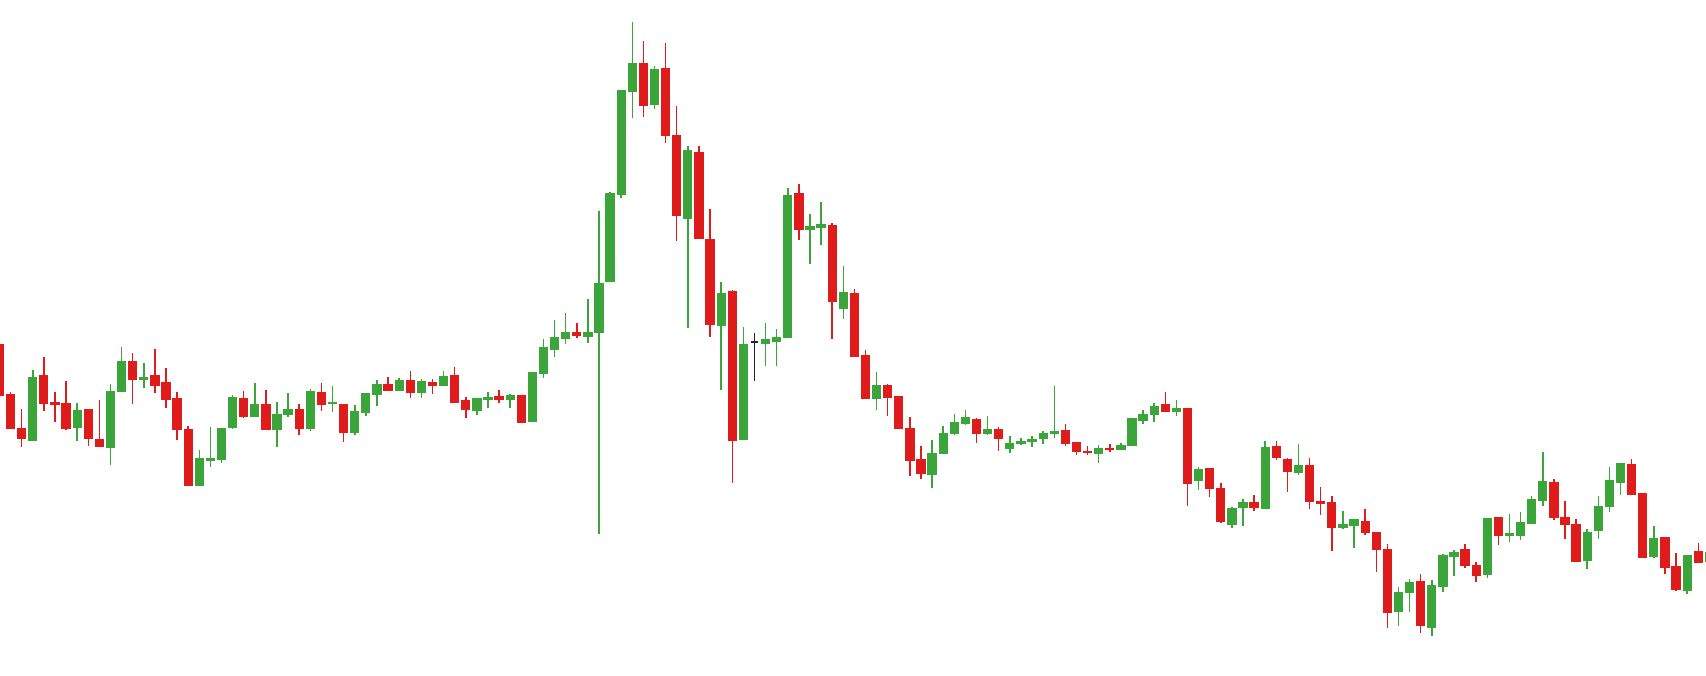buy: (94, 374, 208, 491)
sell: (1550, 460, 1639, 528)
